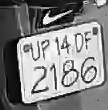1: (48, 62, 59, 92), (52, 35, 61, 57)
2: (30, 64, 50, 95)
4: (60, 34, 71, 55)
6: (80, 56, 99, 83)
8: (61, 58, 80, 88)
D: (71, 31, 84, 53)
F: (83, 29, 91, 51)
P: (39, 38, 51, 61)
U: (29, 41, 41, 62)
